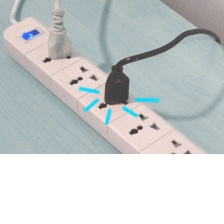three_eye_plug: (0, 13, 224, 191)
